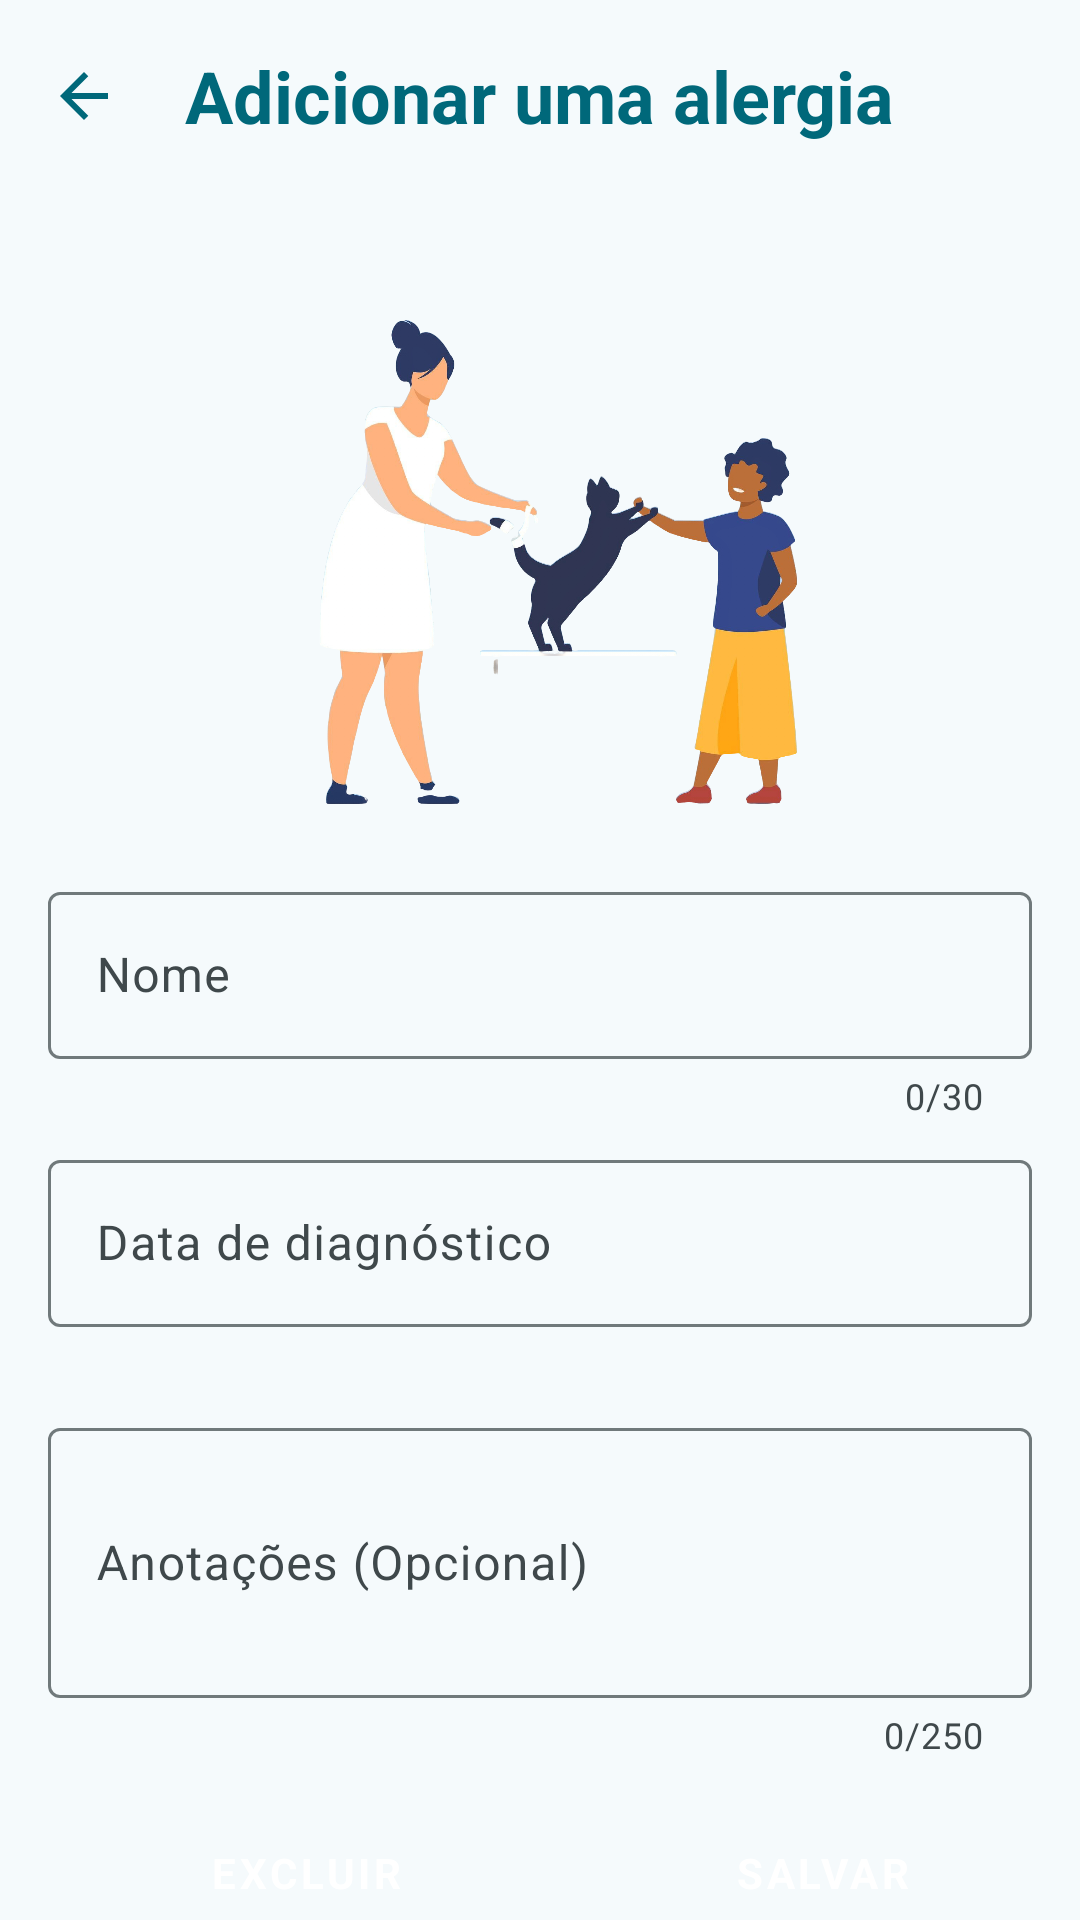

Where to tap for icons on this 1080 x 1920 app screen, as point (x, y):
arrow back: point (84, 96)
